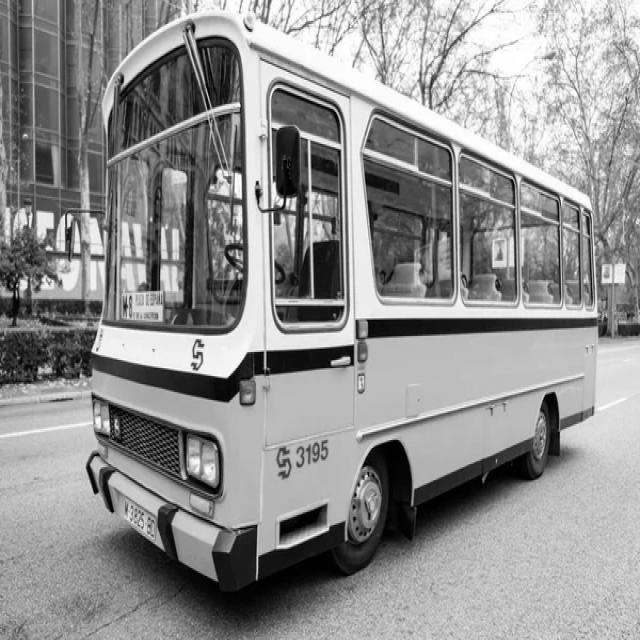Bus: (86, 14, 600, 593)
